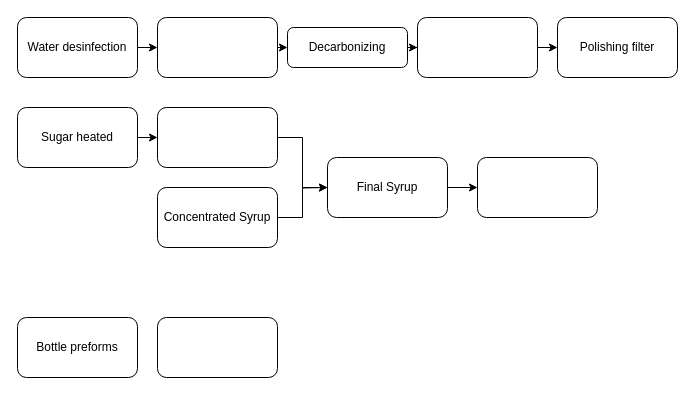
Some shapes in this 695 by 395 pixel diagram are drawn without their labels. The centre of each missing label's shape, as x and y in pixels:
"Brix Measurement" goes at pixel 537 187.
"carbon filter" goes at pixel 477 47.
"Sand filter" goes at pixel 217 47.
"Simple Syrup" goes at pixel 217 137.
